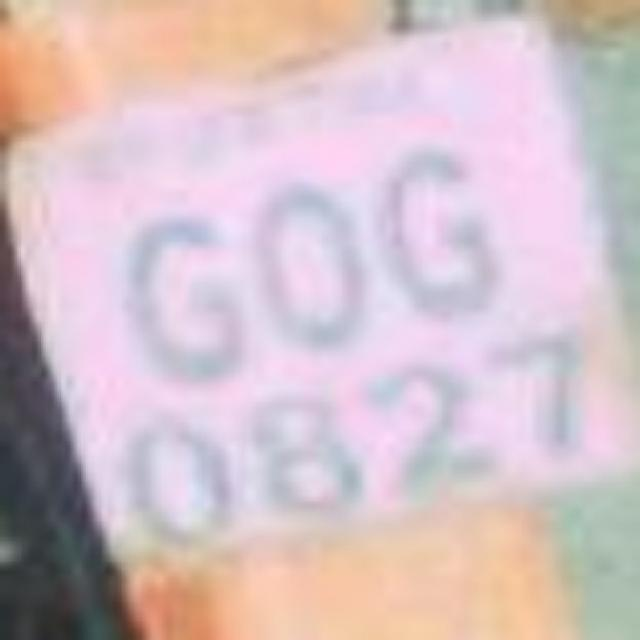0: (212, 152, 412, 372), (100, 388, 268, 564)
2: (344, 340, 511, 512)
7: (468, 308, 608, 480)
B: (228, 360, 380, 540)
